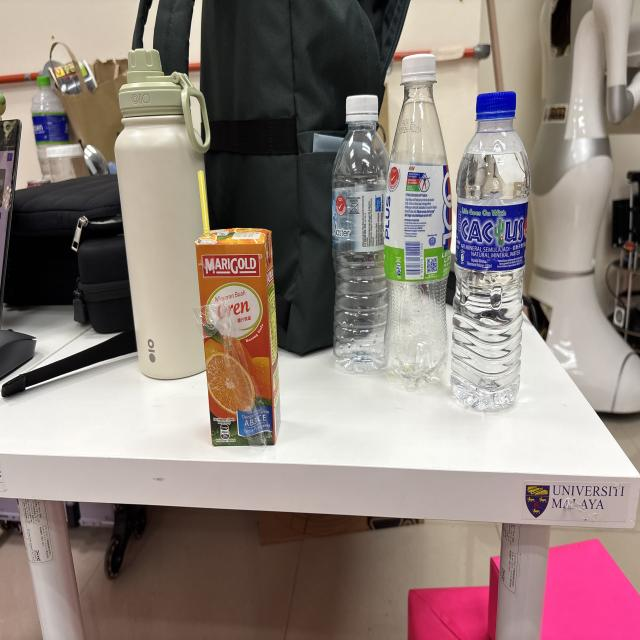drink_carton: (189, 165, 286, 452)
plastic_bottle: (447, 78, 536, 420), (379, 42, 454, 401), (328, 85, 398, 382)
